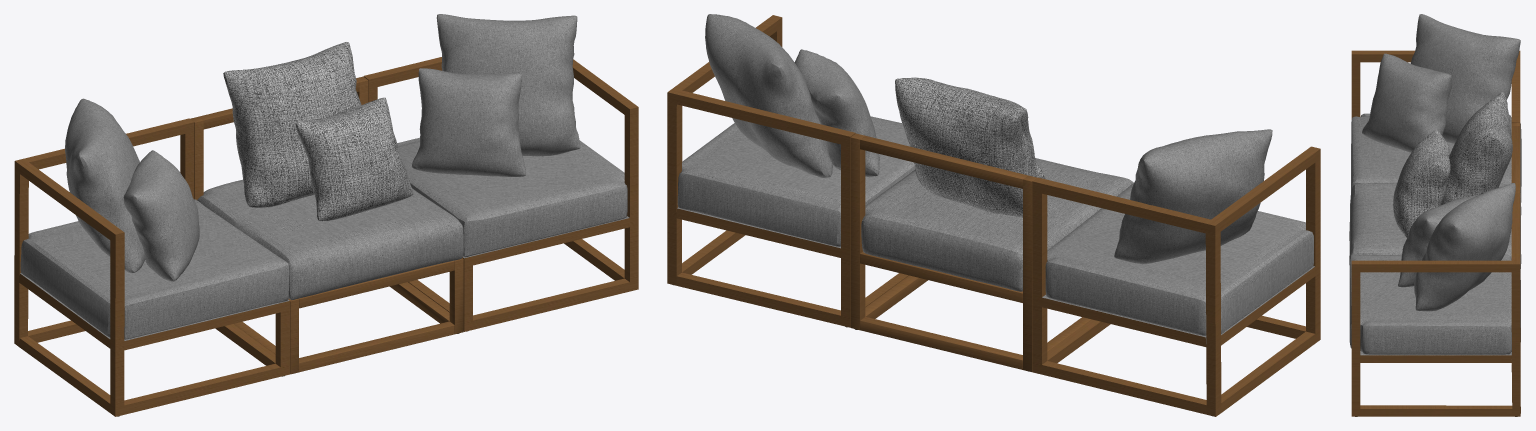
3 views of the same model, side by side, from view 1: azimuth 30°, elevation 25°; view 2: azimuth 150°, elevation 25°; view 3: azimuth 270°, elevation 25° (orthographic). The views are drawn at different scales.
Visible parts, largest first — view 1: C-skp361.001, C-skp361, C-skp6C16; view 2: C-skp361.001, C-skp361, C-skp6C16; view 3: C-skp361, C-skp361.001, C-skp6C16.
Part boxes in pixels (left/top/right/bottom): C-skp361.001: left=14, top=98, right=289, bottom=416; C-skp361: left=363, top=14, right=638, bottom=331; C-skp6C16: left=190, top=42, right=463, bottom=374; C-skp361.001: left=1032, top=129, right=1320, bottom=416; C-skp361: left=667, top=14, right=915, bottom=327; C-skp6C16: left=850, top=77, right=1133, bottom=371; C-skp361: left=1349, top=183, right=1520, bottom=416; C-skp361.001: left=1351, top=14, right=1521, bottom=202; C-skp6C16: left=1349, top=92, right=1521, bottom=268.
Size of the model in its own units: 1.89 by 0.8148 by 0.6434.
Materials: 4 (3 with a texture image).
